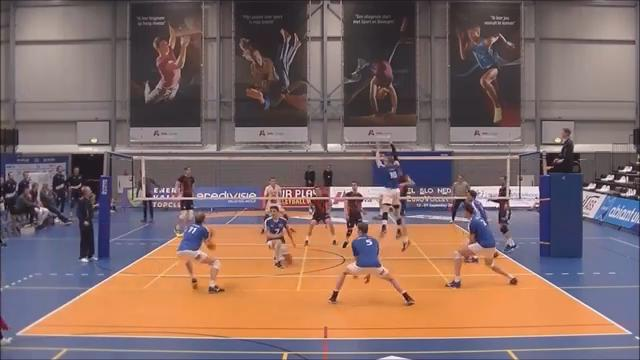difesa: (172, 210, 229, 296)
